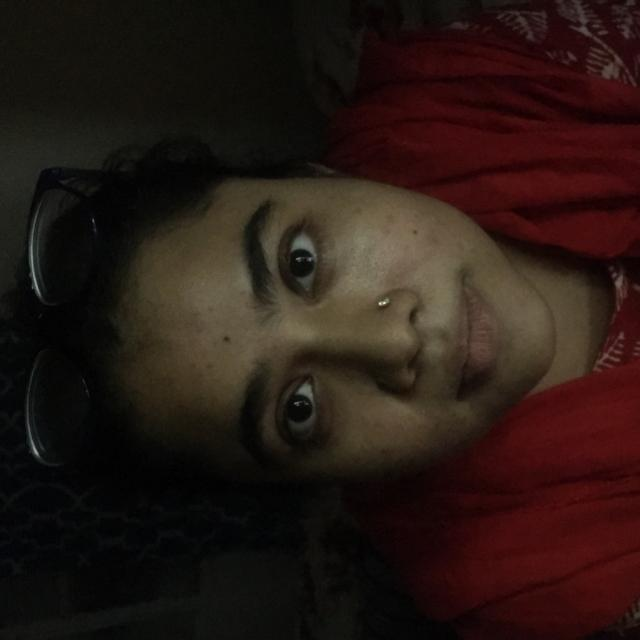Natural: (69, 96, 596, 520)
